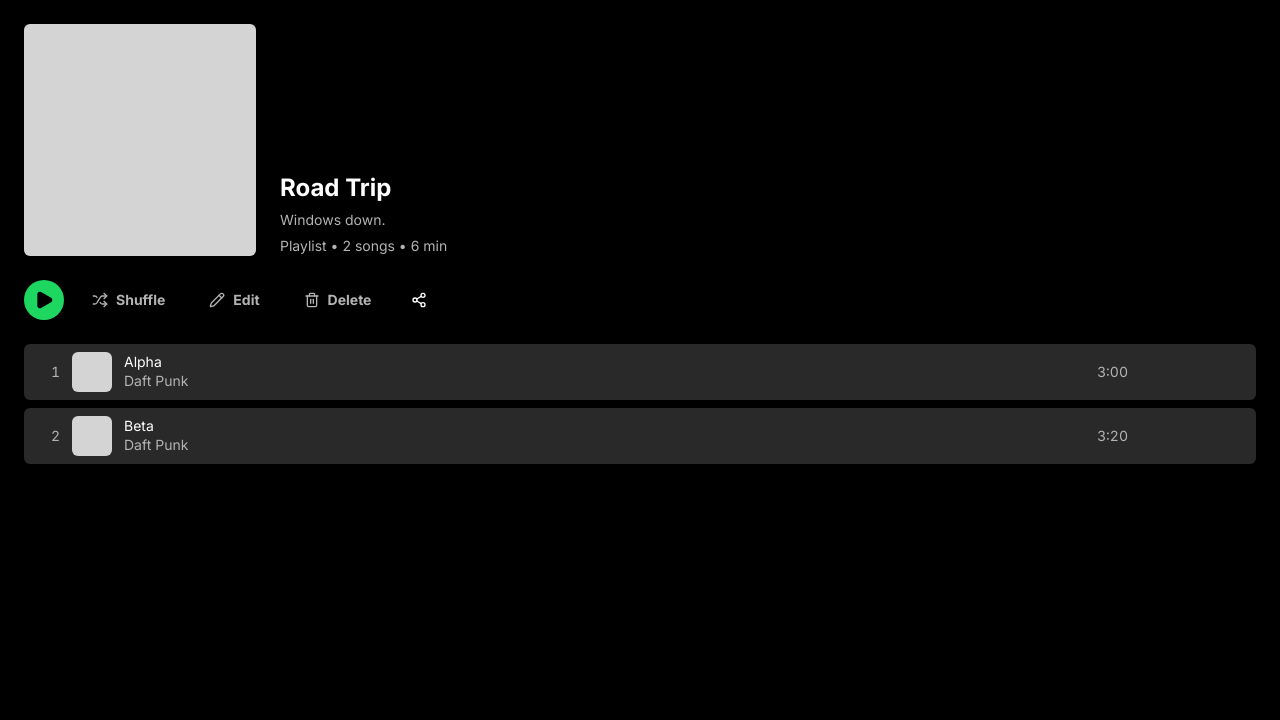
Scenario: playlist toolbar (task 7.2) › edits persist with unchanged identity and membership
The image size is (1280, 720).
Expected: the heading "Road Trip" is shown, [280,173,391,202]
Step 1. Click the button "Edit" → [234, 300], box [193,283,276,317]
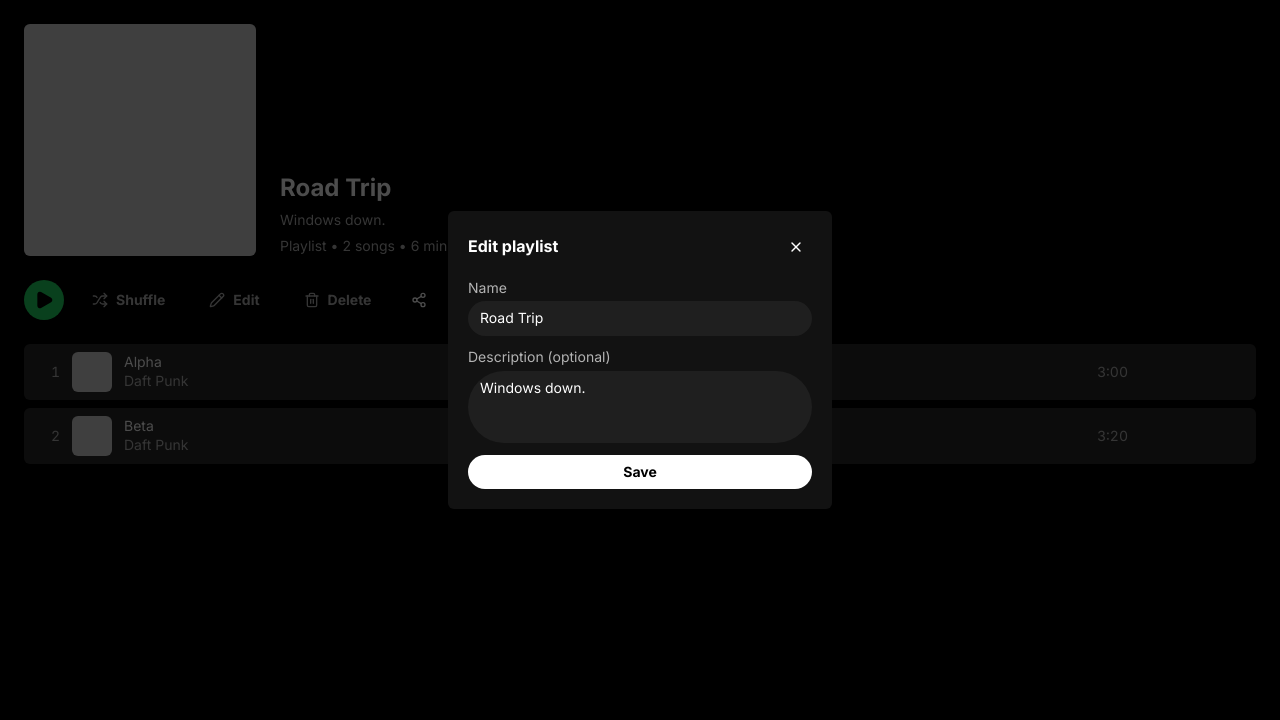
Now the field labelled "Name" holds "Road Trip"
Now the text box labelled "Description (optional)" holds "Windows down.", box [468,371,812,442]
Step 2. Replace the text in the field labelled "Name" with "Road Trip 2" → [640, 319], box [468,302,812,336]
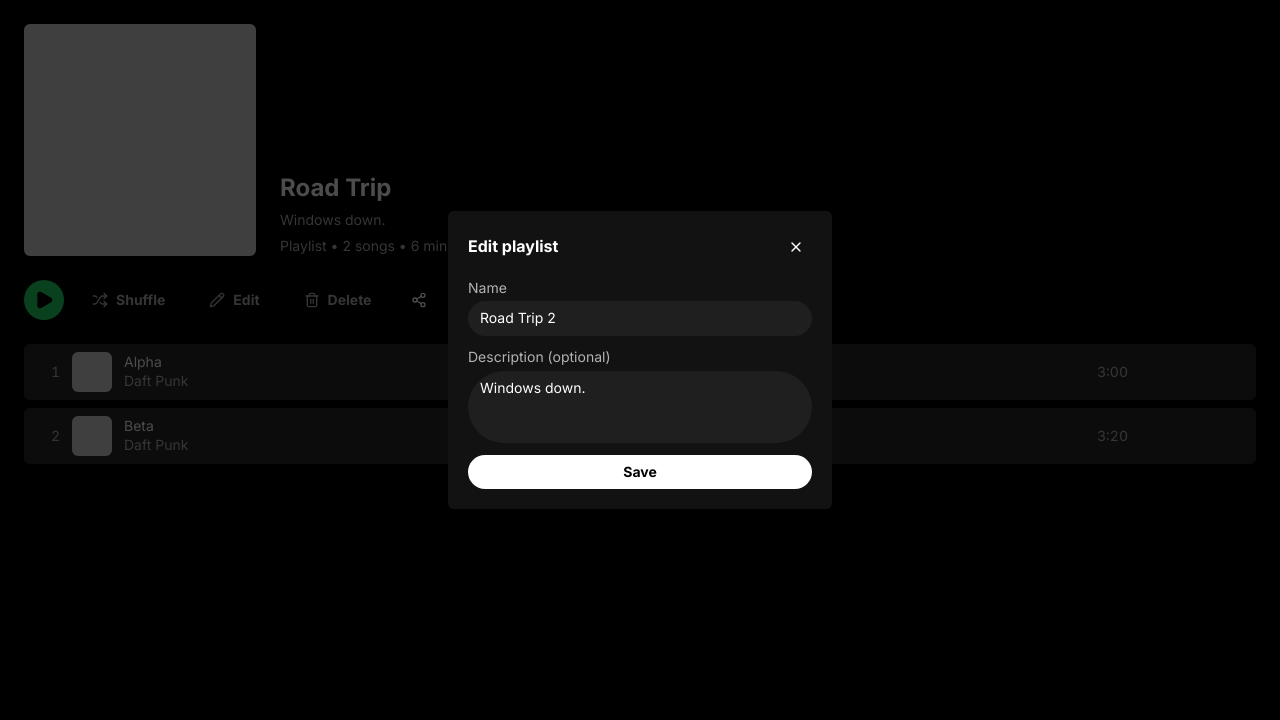
Step 3. Click the button "Save" → [640, 472], box [468,454,812,489]
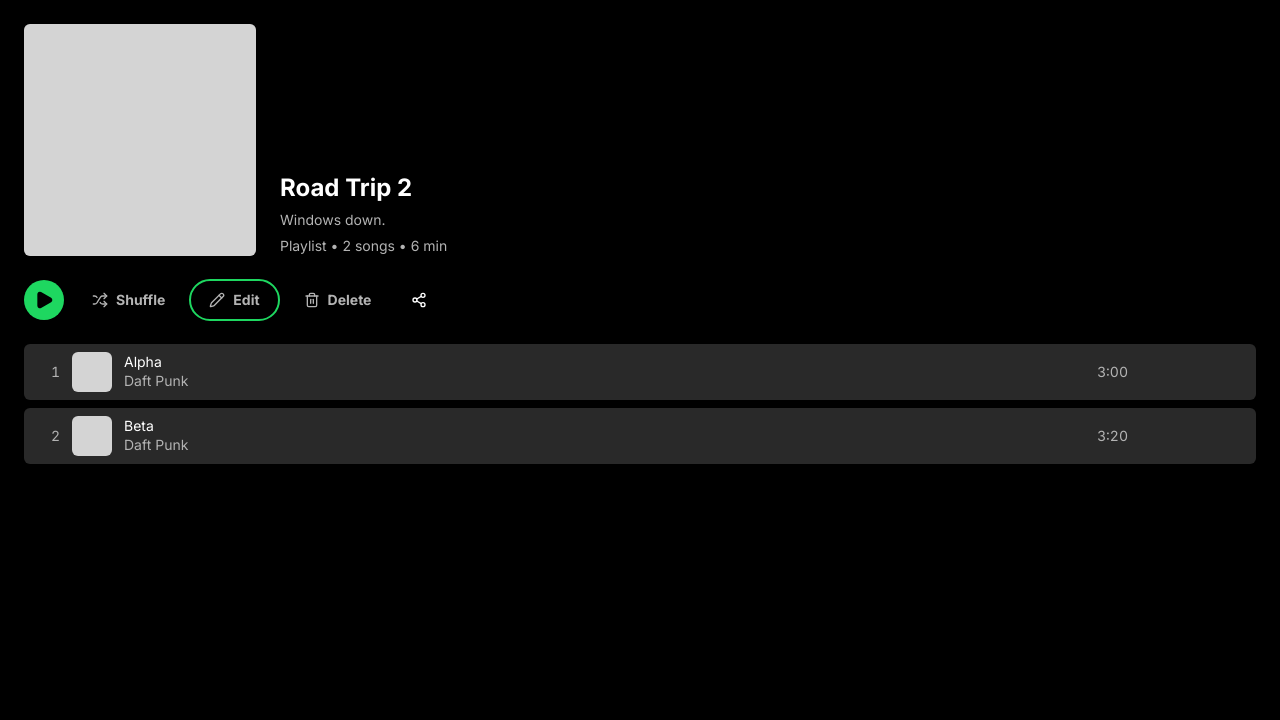
Expected: the text "Windows down." is shown, [280,211,385,228]
Now the dialog is gone
Now the heading "Road Trip 2" is shown, box [280,173,412,202]
